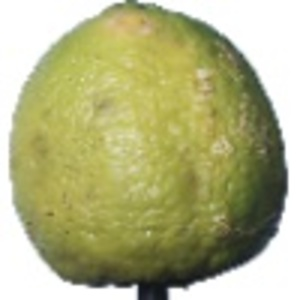limão: (8, 1, 288, 300)
